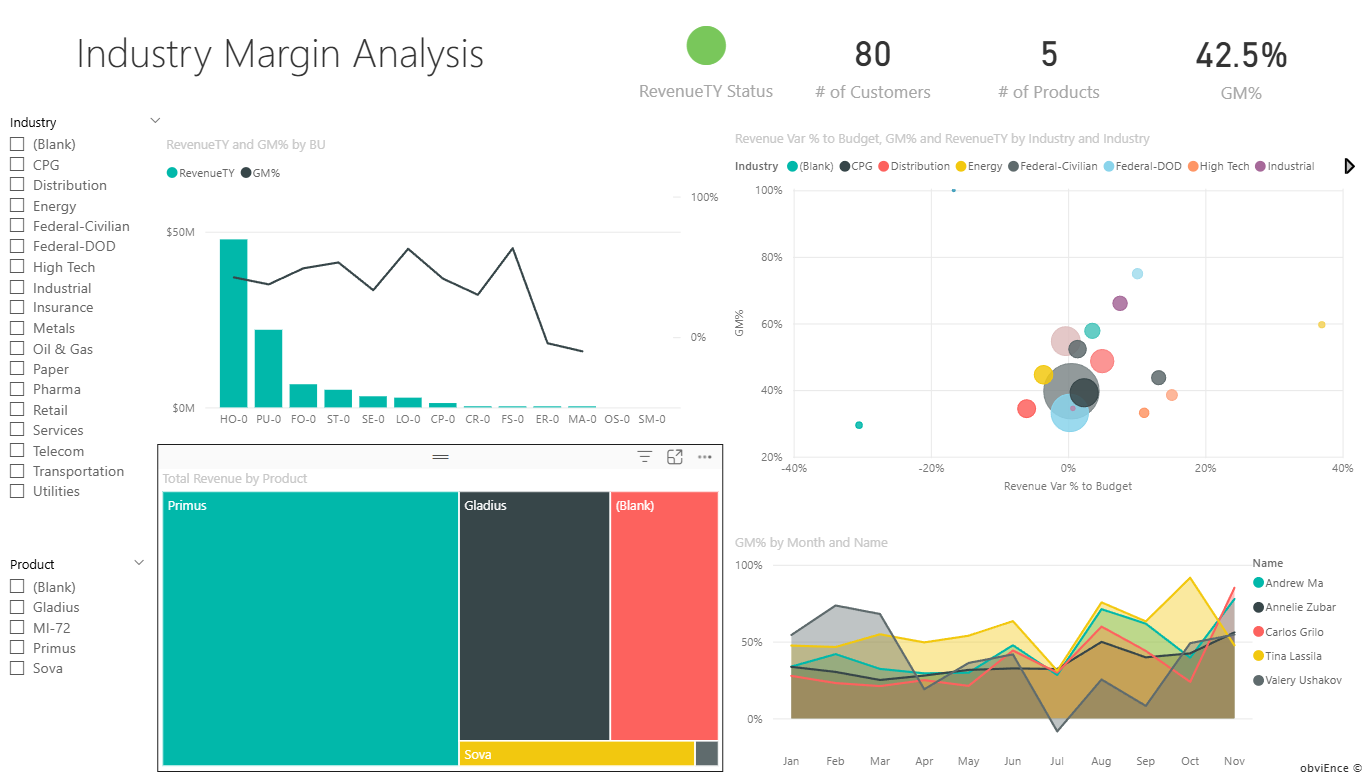

Layout of this report page (visuals, bound fields, positions):
{"tool":"powerbi","page":{"name":"Industry Margin Analysis","canvas":[1280,720],"ordinal":2},"visuals":[{"type":"textbox","box":[9.4,0,510.1,62.4],"z":0},{"type":"areaChart","fields":{"Category":["select"],"Series":["Executive.Name"],"Y":["Fact.GM%"]},"box":[682,477.6,584.2,229.4],"z":1000},{"type":"textbox","box":[1139.6,680.7,136.7,38.9],"z":2000},{"type":"slicer","fields":{"Values":["Industry.Industry"]},"box":[0,82.7,165.5,384.9],"z":3000},{"type":"slicer","fields":{"Values":["Product.Product"]},"box":[0,493.9,150.4,142.9],"z":4000},{"type":"treemap","fields":{"Group":["Product.Product"],"Values":["Fact.Total Revenue"]},"box":[149.8,418.6,527.4,281.6],"z":5000},{"type":"card","fields":{"Values":["Fact._RevenueTY Status"]},"box":[577.9,0,165.5,80.2],"z":6000},{"type":"card","fields":{"Values":["Fact.# of Customers"]},"box":[730.9,0,169.2,81.5],"z":7000},{"type":"card","fields":{"Values":["Fact.GM%"]},"box":[1063.1,0,191.8,82.7],"z":8000},{"type":"card","fields":{"Values":["Fact.# of Products"]},"box":[898.9,0,161.7,81.5],"z":9000},{"type":"lineClusteredColumnComboChart","fields":{"Category":["BU.BU"],"Y":["Fact.RevenueTY"],"Y2":["Fact.GM%"]},"box":[152.9,107.8,524,280.8],"z":10000},{"type":"scatterChart","fields":{"Category":["Industry.Industry","State.Region"],"Series":["Industry.Industry"],"X":["Fact.Revenue Var % to Budget"],"Y":["Fact.GM%"],"Size":["Fact.RevenueTY"]},"box":[682.2,102.4,586.2,343],"z":11000}]}

Visuals, with their boxes in screenshot pixels (x1, y1, x2, y2), scaled from the page's 1280x720 canvas onto the 1371x782 screenshot:
textbox: 10/0/556/68
areaChart - select x Executive.Name: 730/519/1356/768
textbox: 1221/739/1367/781
slicer - Industry.Industry: 0/90/177/508
slicer - Product.Product: 0/536/161/692
treemap - Product.Product x Fact.Total Revenue: 160/455/725/760
card - Fact._RevenueTY Status: 619/0/796/87
card - Fact.# of Customers: 783/0/964/89
card - Fact.GM%: 1139/0/1344/90
card - Fact.# of Products: 963/0/1136/89
lineClusteredColumnComboChart - BU.BU x Fact.RevenueTY: 164/117/725/422
scatterChart - Industry.Industry x State.Region: 731/111/1359/484
